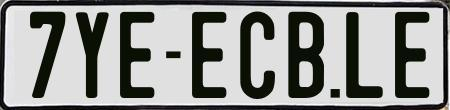7: (28, 11, 66, 102)
B: (285, 10, 322, 101)
C: (237, 11, 278, 99)
E: (190, 12, 229, 102), (120, 10, 157, 101), (393, 10, 427, 97)
L: (345, 12, 382, 102)
Y: (73, 9, 112, 96)
